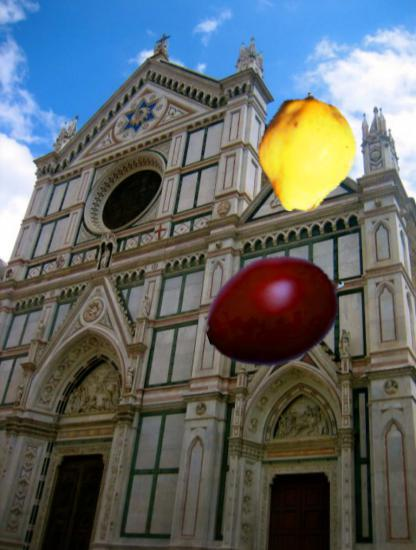Quince: (247, 93, 368, 214)
Tamarillo: (203, 237, 349, 383)
